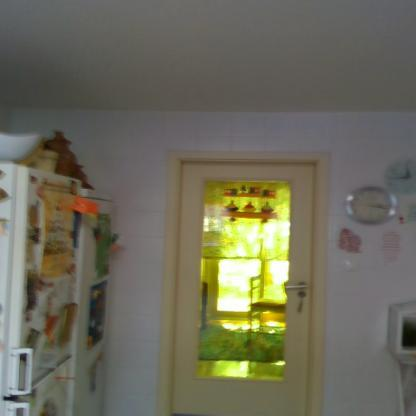door: (181, 163, 314, 415)
lever: (283, 284, 309, 290)
